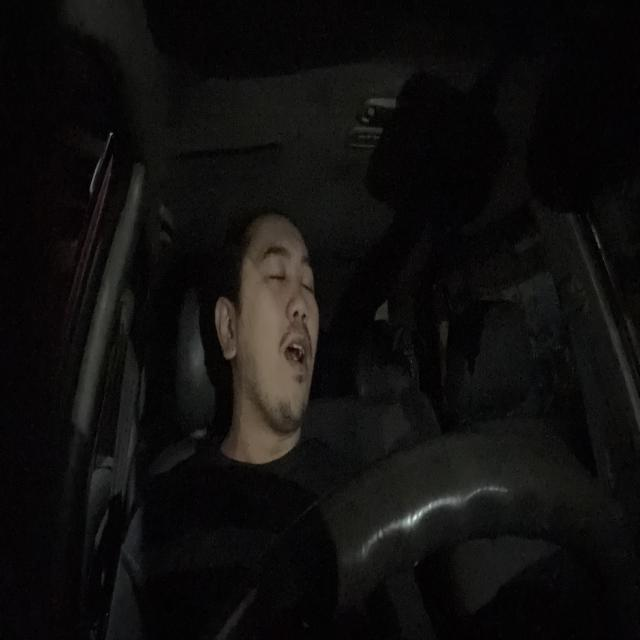close: (256, 242, 290, 299), (298, 250, 318, 300)
